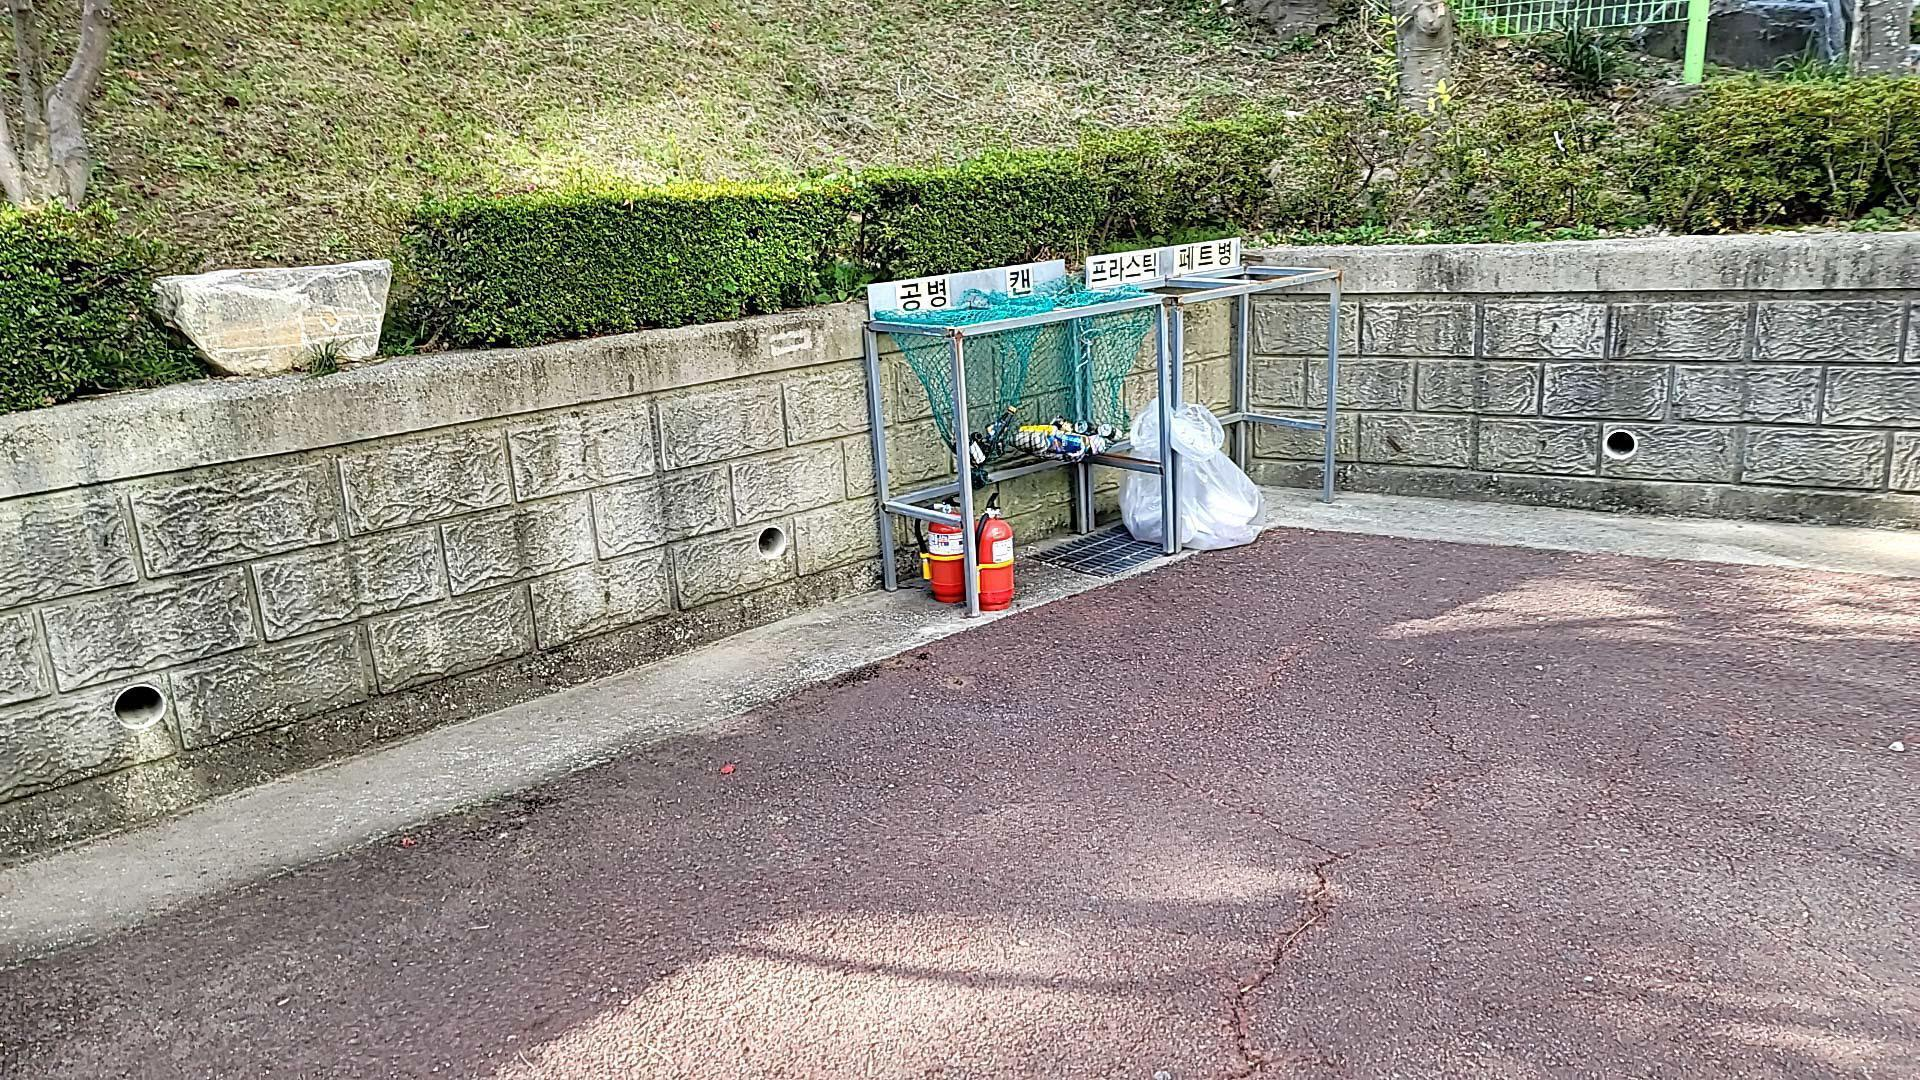white_bag: (1097, 393, 1276, 562)
